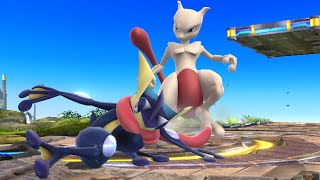greninja: (1, 53, 222, 179)
